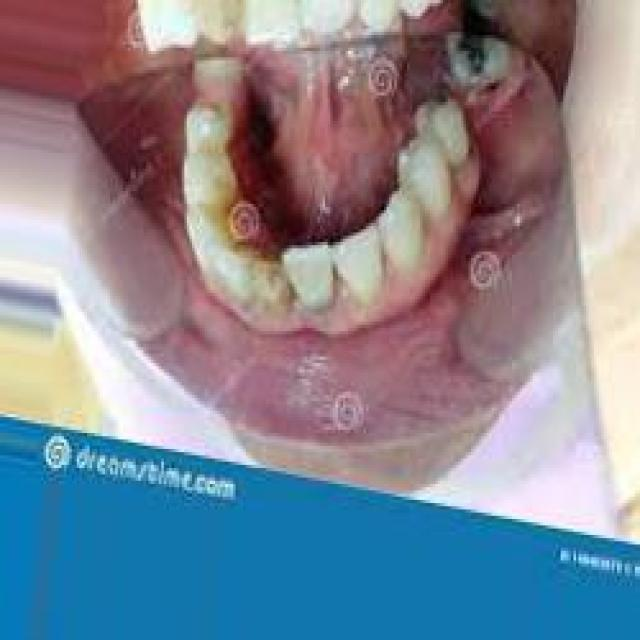caries: (441, 28, 502, 92), (248, 252, 298, 317)
